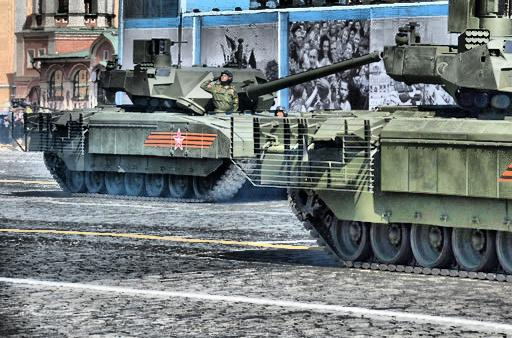tanks: (247, 1, 512, 282), (27, 41, 352, 203)
